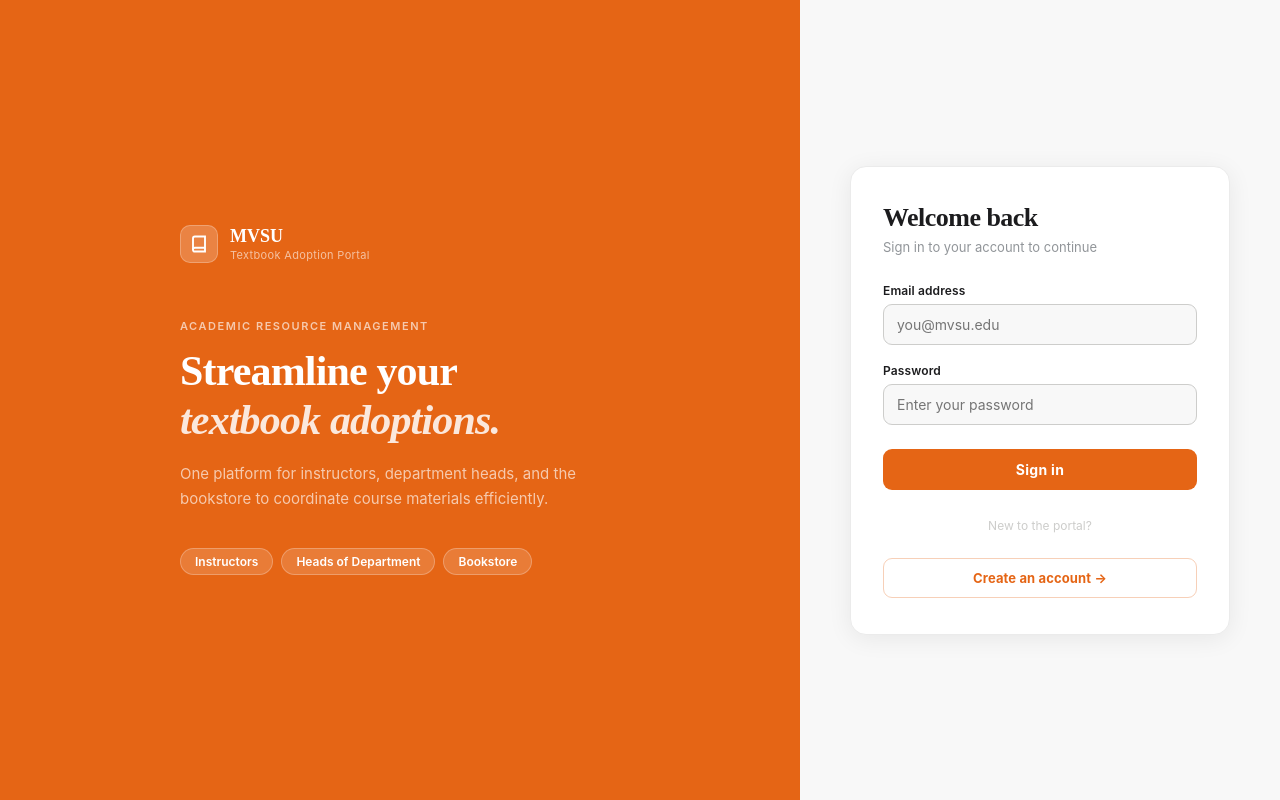
Test: login stores session and opens the Head of Department dashboard
Type "demo@example.test" into the field with placeholder "you@mvsu.edu". click: (1040, 324)
box: top-left (883, 304), bottom-right (1197, 344)
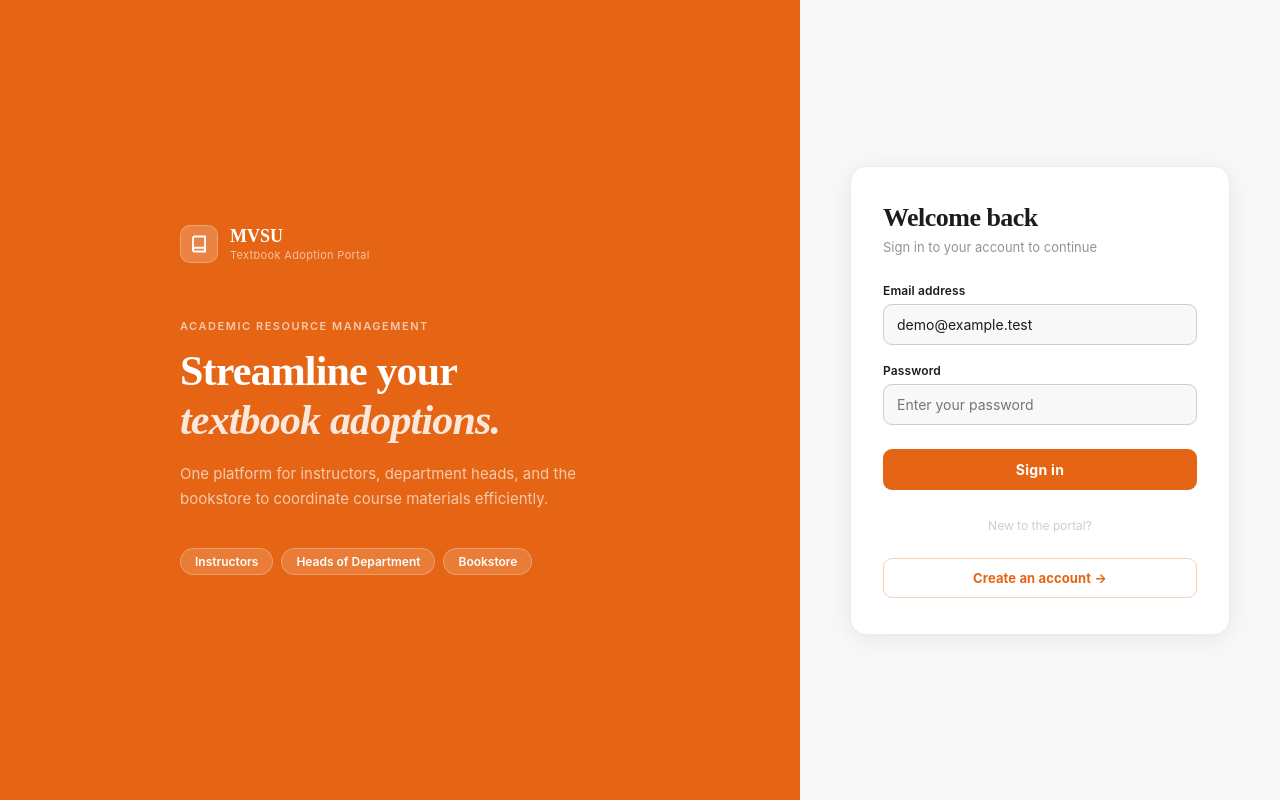
Type "DemoTextbooks!2026" into the password field with placeholder "Enter your password". click: (1040, 404)
box: top-left (883, 384), bottom-right (1197, 424)
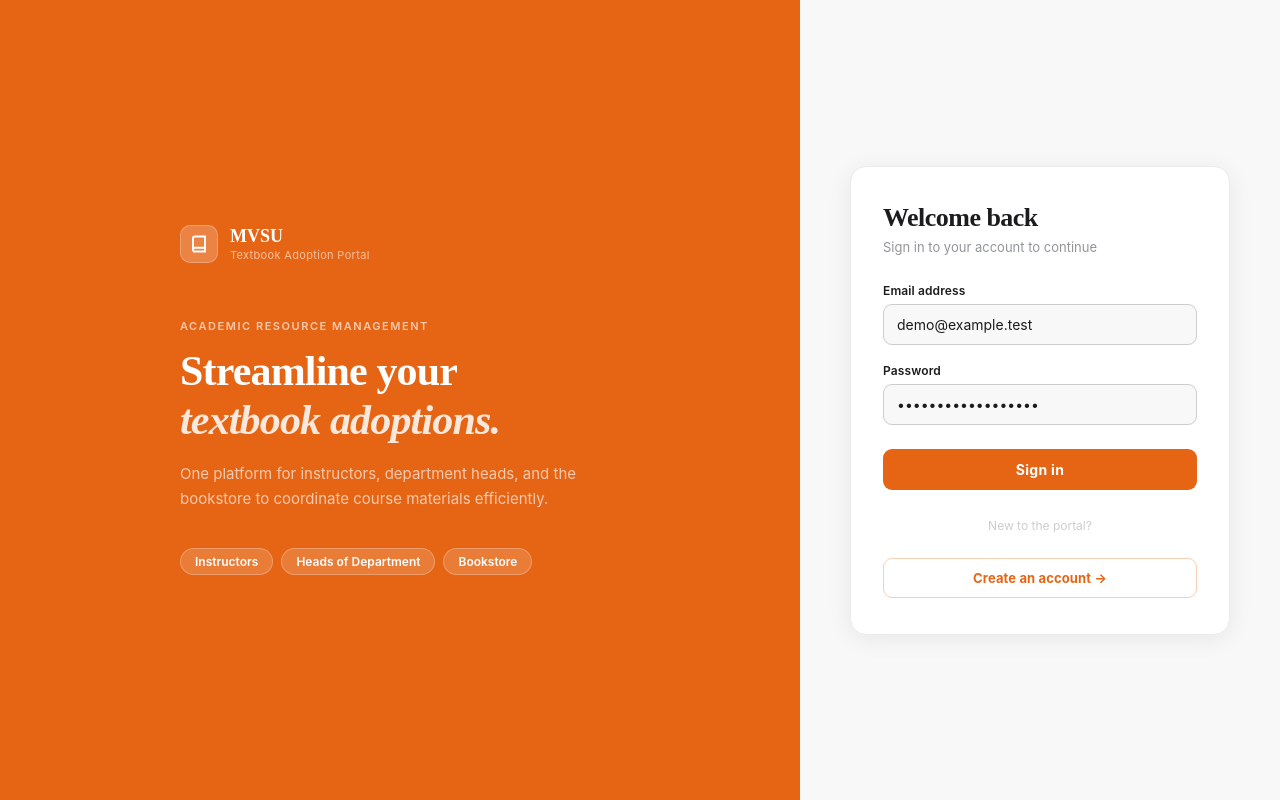
Click the button "Sign in". click: (1040, 469)
box: top-left (883, 448), bottom-right (1197, 490)
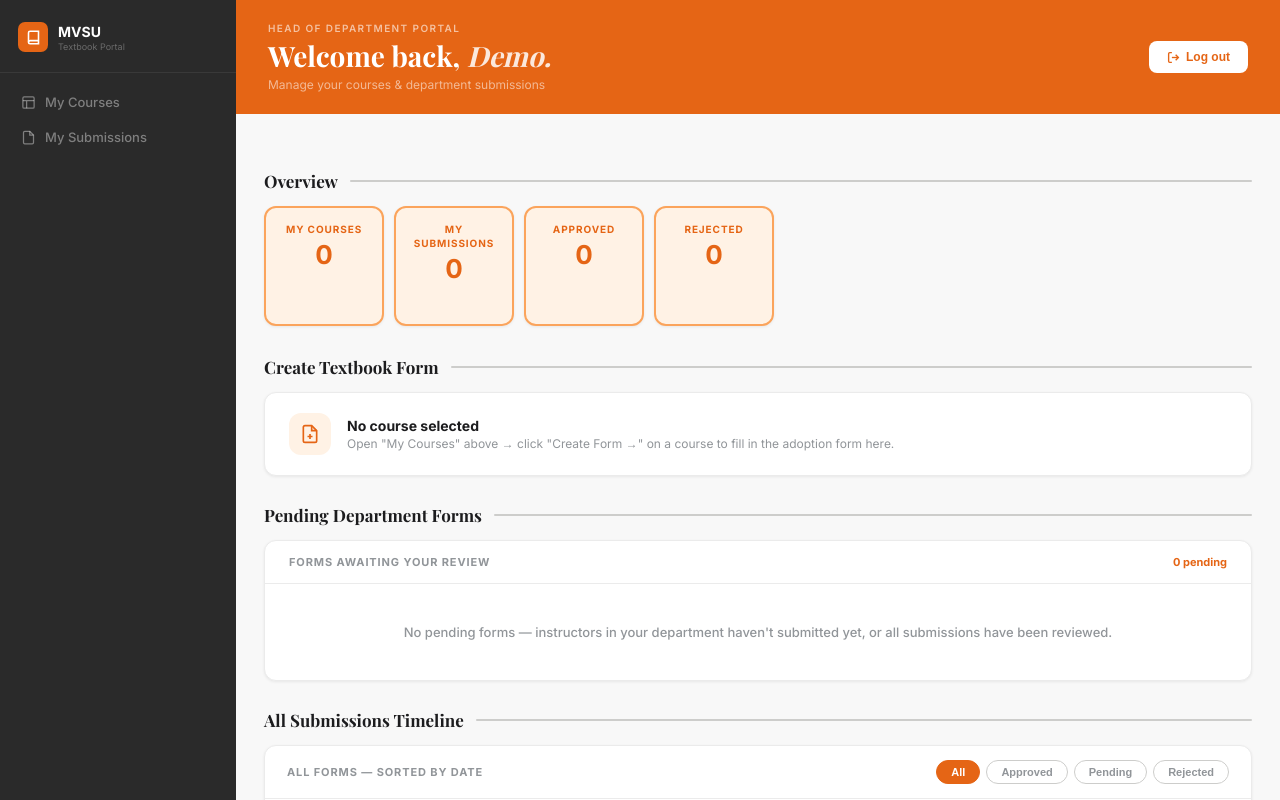
Expected: the text "Pending Department Forms" is shown, top-left (264, 504), bottom-right (482, 526)
